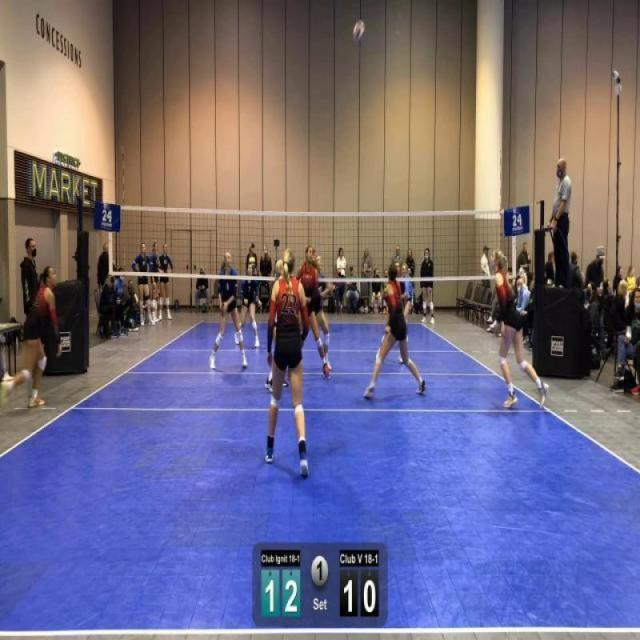volleyball: (352, 18, 366, 46)
